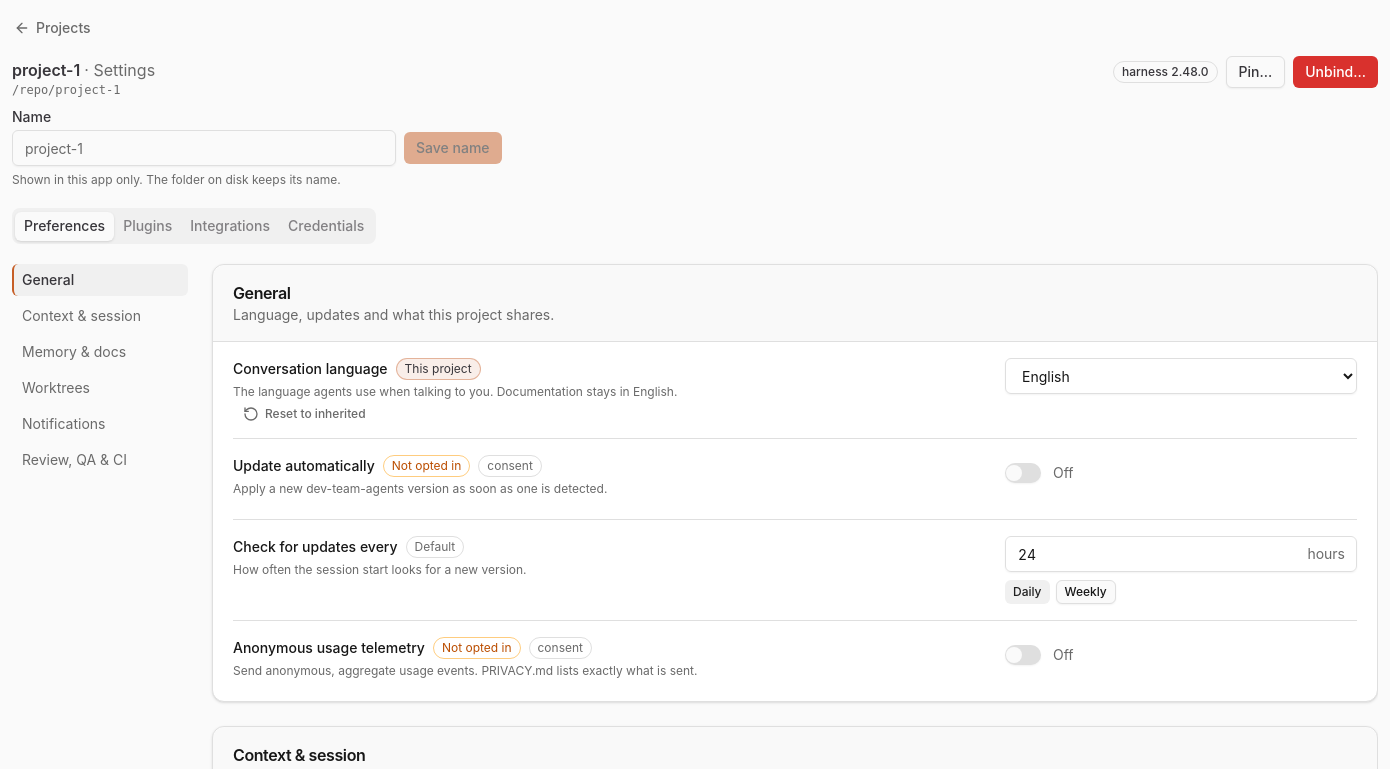
Test: the project screen’s tabs › shows Preferences first and loads plugins only when the tab is opened
The image size is (1390, 769).
Expected: the tab "Preferences" is shown, [15,212,114,240]
Step 1. Click the tab "Plugins" → coordinates (148, 226), box [114,212,181,240]
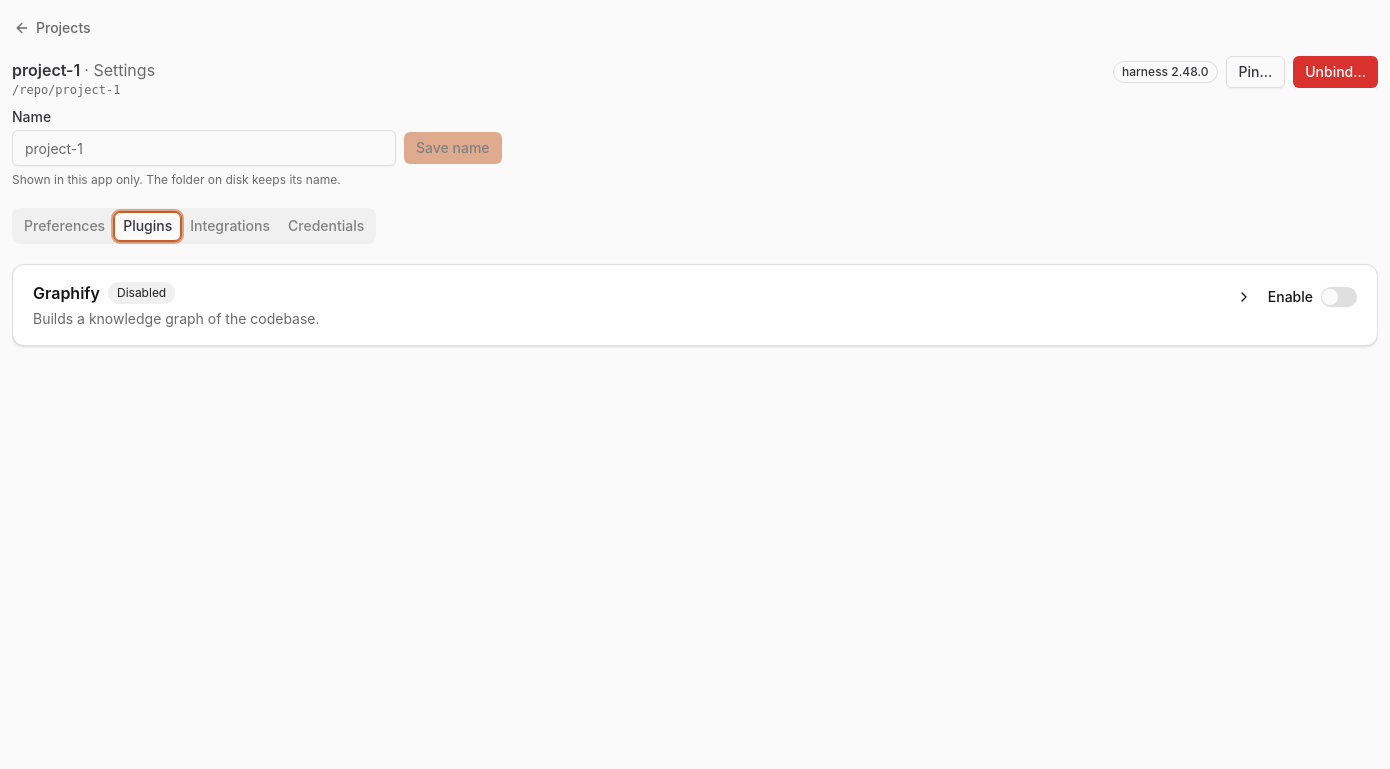
Result: the heading "Graphify" is shown at [33,281,100,305]
